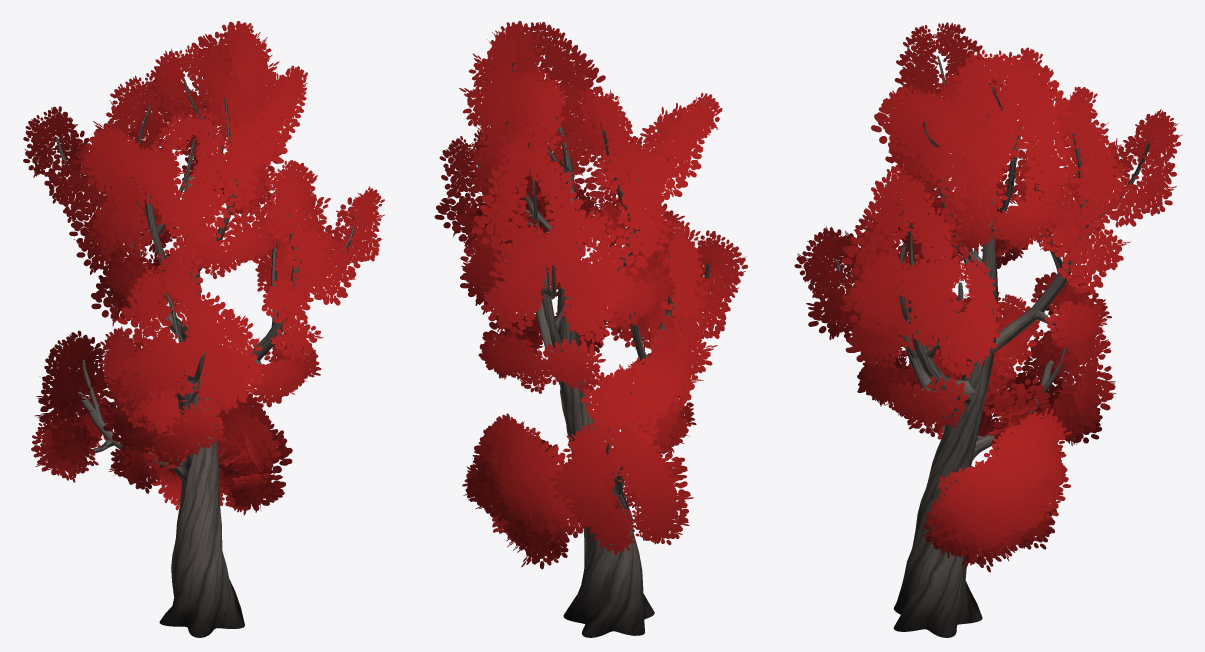
Rendered from TwistedTree_4.glb.
3 views of the same model, side by side, from view 1: azimuth 30°, elevation 25°; view 2: azimuth 150°, elevation 25°; view 3: azimuth 270°, elevation 25° (orthographic). The views are drawn at different scales.
Visible parts, largest first — view 1: TwistedTree_4; view 2: TwistedTree_4; view 3: TwistedTree_4.
Boxes of the visible parts, x1=… form: TwistedTree_4: x1=23, y1=21, x2=384, y2=637; TwistedTree_4: x1=434, y1=21, x2=747, y2=637; TwistedTree_4: x1=794, y1=22, x2=1182, y2=637.
Size of the model in its own units: 10.38 by 18.74 by 11.29.
Materials: 2 (2 with a texture image).
